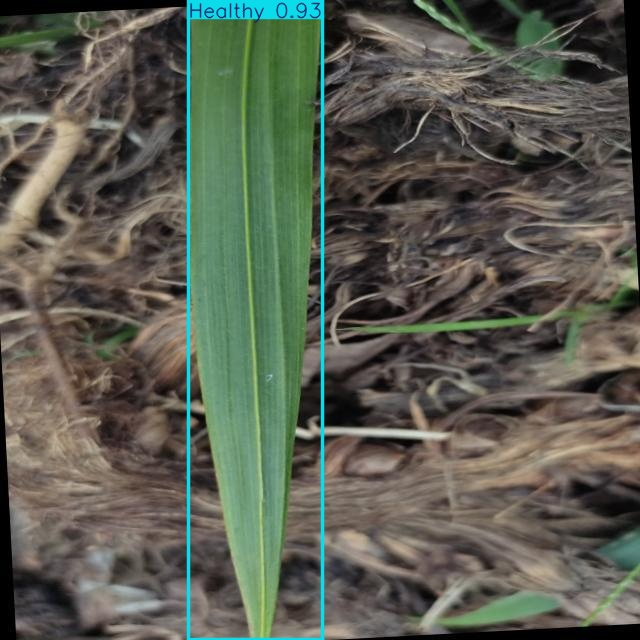Healthy: (189, 0, 323, 640)
